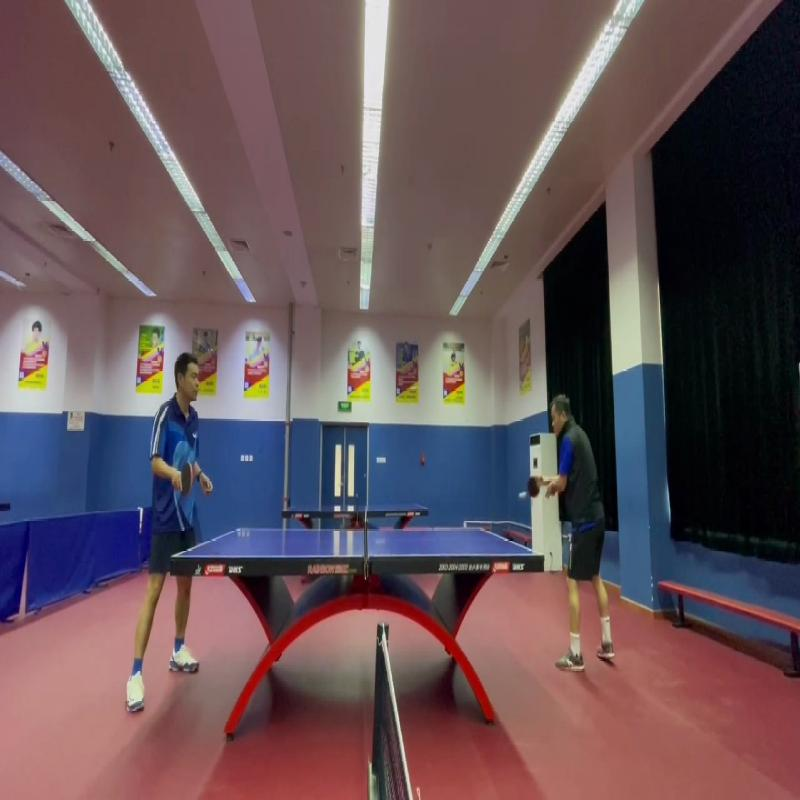bats: (173, 451, 198, 506)
